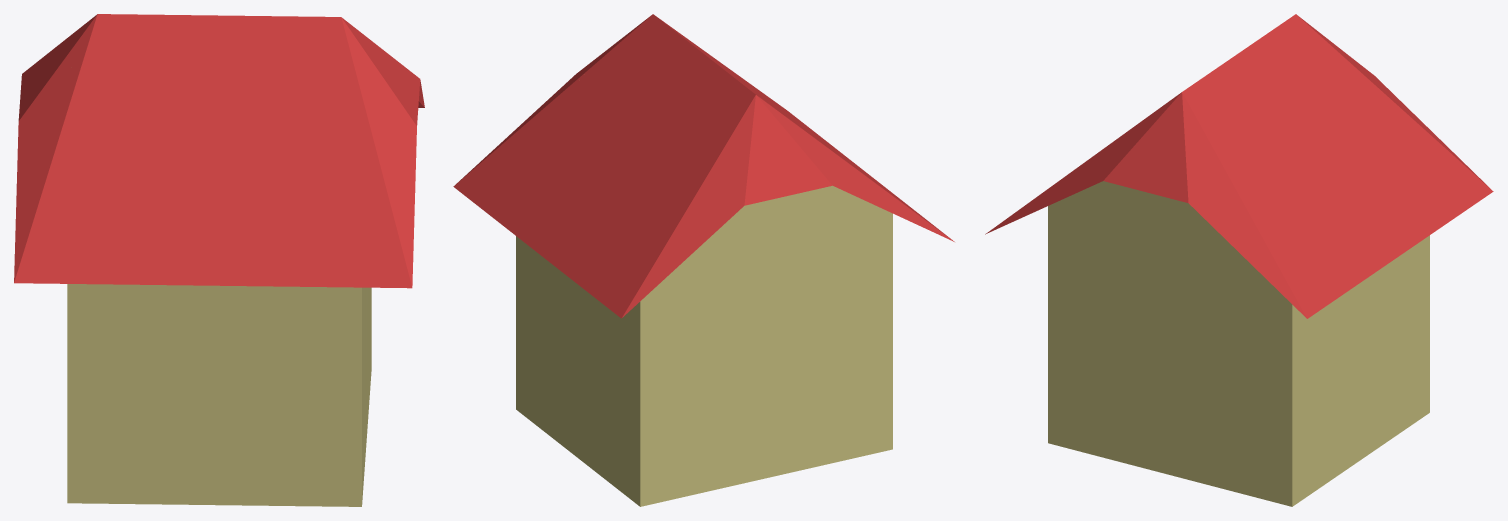
The picture shows the model from 3 angles, left to right: view 1: azimuth 30°, elevation 25°; view 2: azimuth 150°, elevation 25°; view 3: azimuth 270°, elevation 25°; orthographic projection. The views are drawn at different scales.
Parts seen in each view (by area): view 1: group_3, group_5, group_4; view 2: group_5, group_3, group_4; view 3: group_5, group_3, group_4.
Boxes of the visible parts, left/top/right/bottom form: group_3: left=14, top=14, right=424, bottom=288; group_5: left=67, top=284, right=371, bottom=506; group_4: left=14, top=34, right=424, bottom=287; group_5: left=516, top=185, right=892, bottom=506; group_3: left=453, top=14, right=950, bottom=318; group_4: left=455, top=72, right=954, bottom=315; group_5: left=1048, top=181, right=1429, bottom=506; group_3: left=1115, top=14, right=1493, bottom=318; group_4: left=985, top=73, right=1491, bottom=318.
Bounding box in the file's own units: 16.26 × 16.52 × 13.42.
